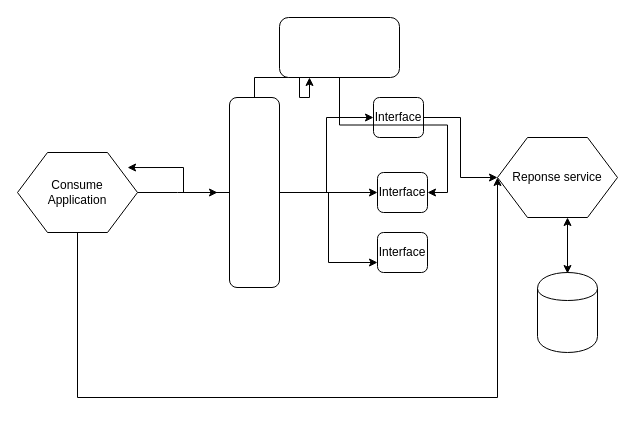
The diagram is 635 pixels wide and 423 high, and some of its shapes have lost their labels. Here are the shapes that lost their labels. From the top down, the box of each, then its label:
(228, 96, 280, 288): Cache Interface
(536, 272, 598, 352): DB
